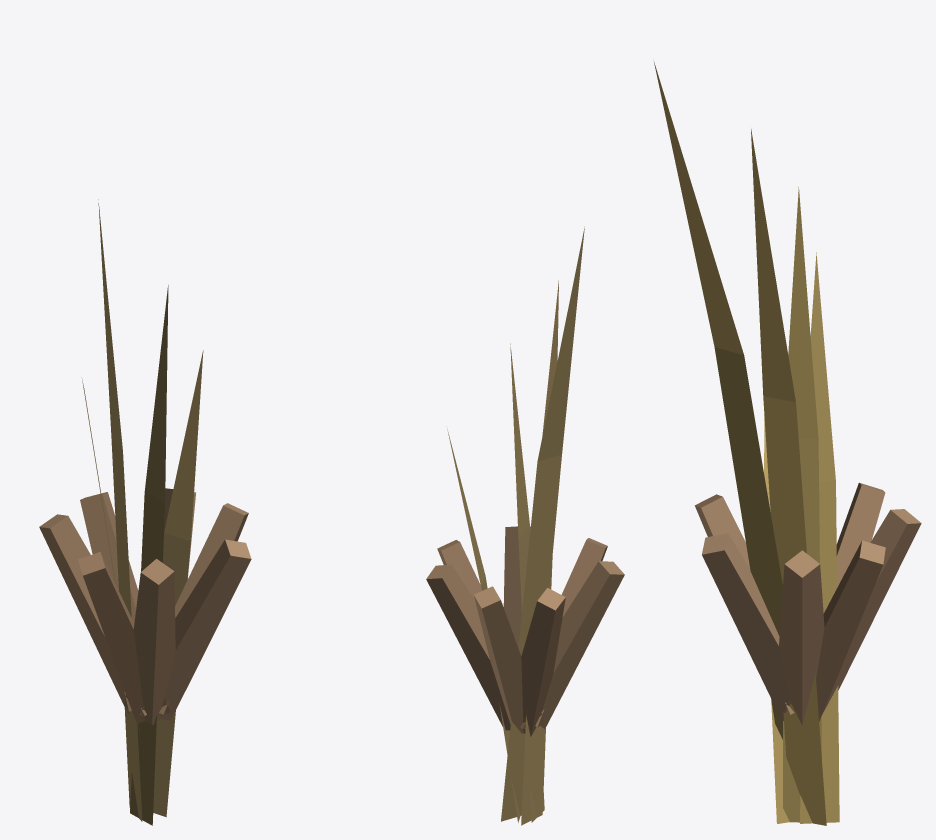
Rendered from shui.changpu@flowering__autumn.glb.
3 views of the same model, side by side, from view 1: azimuth 30°, elevation 25°; view 2: azimuth 150°, elevation 25°; view 3: azimuth 270°, elevation 25° (orthographic). The views are drawn at different scales.
Parts seen in each view (by area): view 1: shui.changpu@flowering__autumn; view 2: shui.changpu@flowering__autumn; view 3: shui.changpu@flowering__autumn.
Part boxes in pixels (box(x1,y1,x2,y2)): shui.changpu@flowering__autumn: box(39, 199, 251, 825); shui.changpu@flowering__autumn: box(426, 226, 624, 825); shui.changpu@flowering__autumn: box(654, 62, 921, 825).
Bounding box in the file's own units: 0.5859 × 1.62 × 0.4645.
